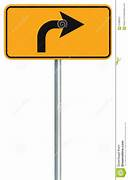right: (4, 2, 111, 62)
